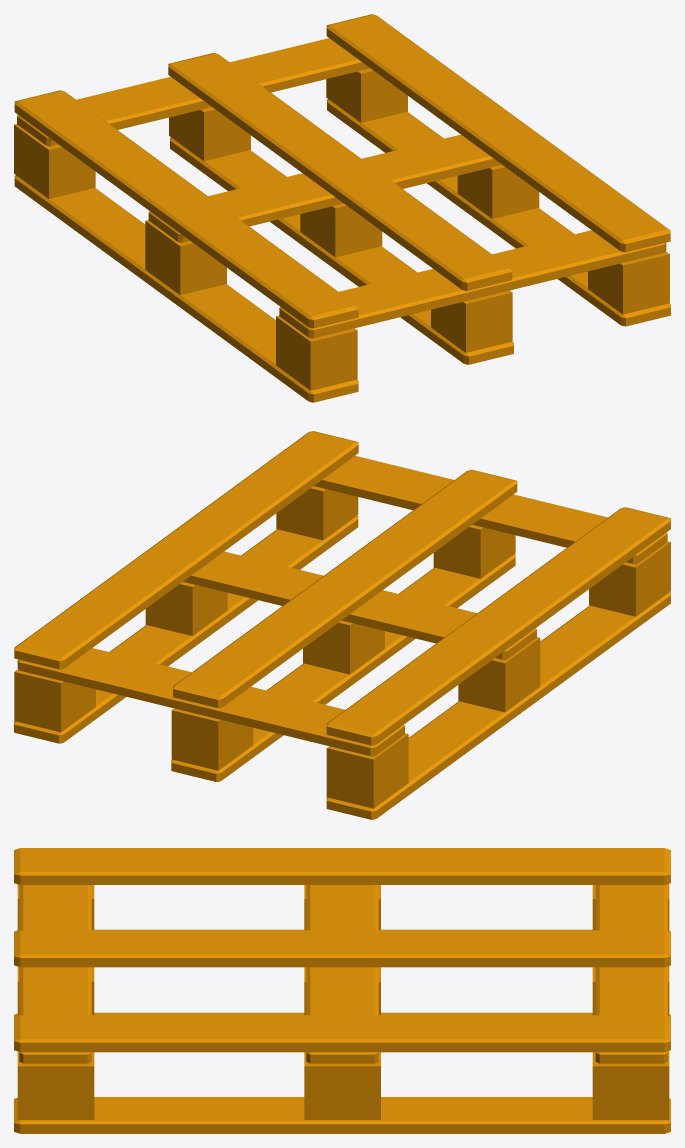
Rendered from paleta.fbx.
The picture shows the model from 3 angles, top to bottom: view 1: azimuth 30°, elevation 25°; view 2: azimuth 150°, elevation 25°; view 3: azimuth 270°, elevation 25°; orthographic projection. The views are drawn at different scales.
Visible parts, largest first — view 1: Cube; view 2: Cube; view 3: Cube.
Boxes of the visible parts, left/top/right/bottom form: Cube: left=14, top=14, right=670, bottom=402; Cube: left=14, top=431, right=670, bottom=819; Cube: left=14, top=848, right=670, bottom=1133.
Bounding box in the file's own units: 140 × 31.72 × 200.
